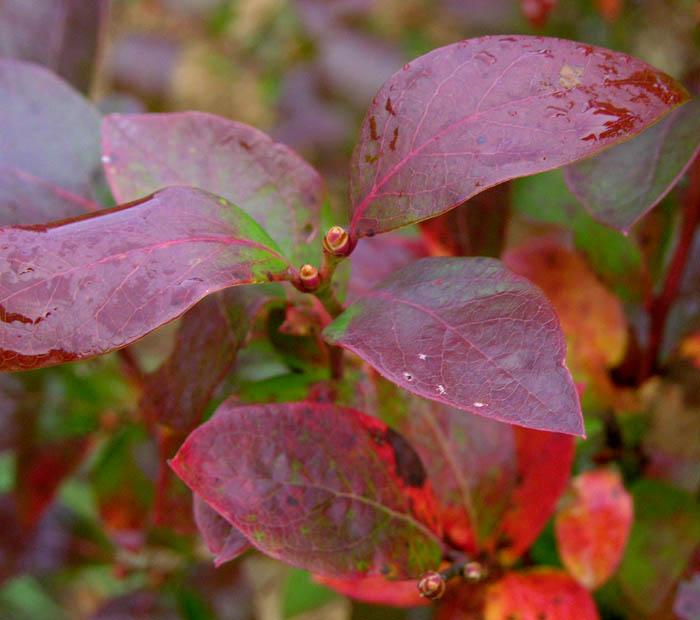Blueberry leaf: (348, 25, 700, 243), (1, 178, 305, 372), (164, 387, 454, 584), (319, 250, 603, 445)
